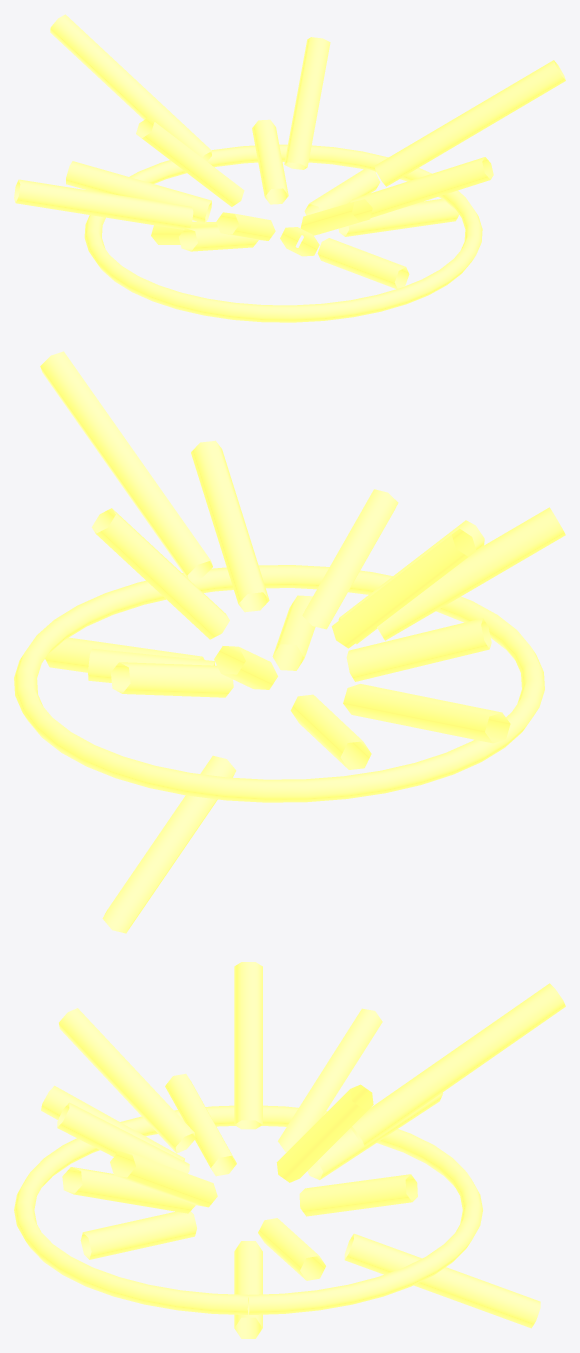
File: damage.fire.glb
3 renders of one model, top to bottom at view 1: azimuth 30°, elevation 25°; view 2: azimuth 150°, elevation 25°; view 3: azimuth 270°, elevation 25°, orthographic. The views are drawn at different scales.
Visible parts, largest first — view 1: damage.fire.sweep.017; view 2: damage.fire.sweep.017; view 3: damage.fire.sweep.017.
Part boxes in pixels (left/top/right/bottom): damage.fire.sweep.017: left=14, top=14, right=565, bottom=322; damage.fire.sweep.017: left=14, top=351, right=565, bottom=933; damage.fire.sweep.017: left=14, top=962, right=565, bottom=1338.
Bounding box in the file's own units: 1.49 × 0.8084 × 1.35.
